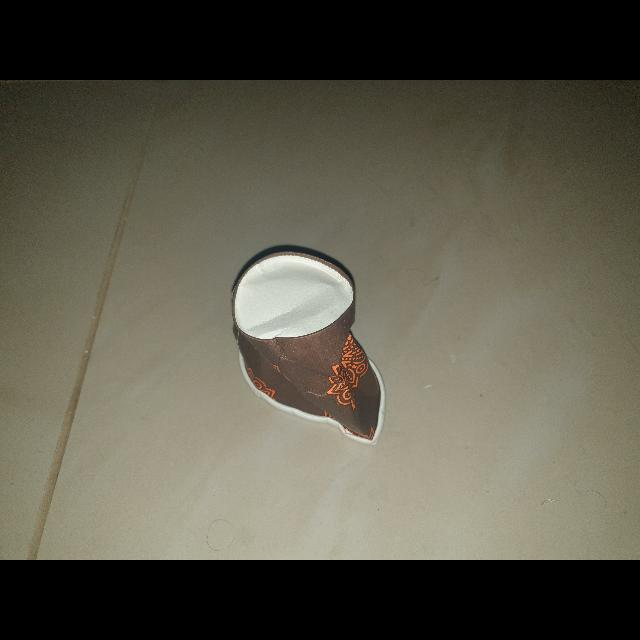trash: (225, 242, 397, 450)
